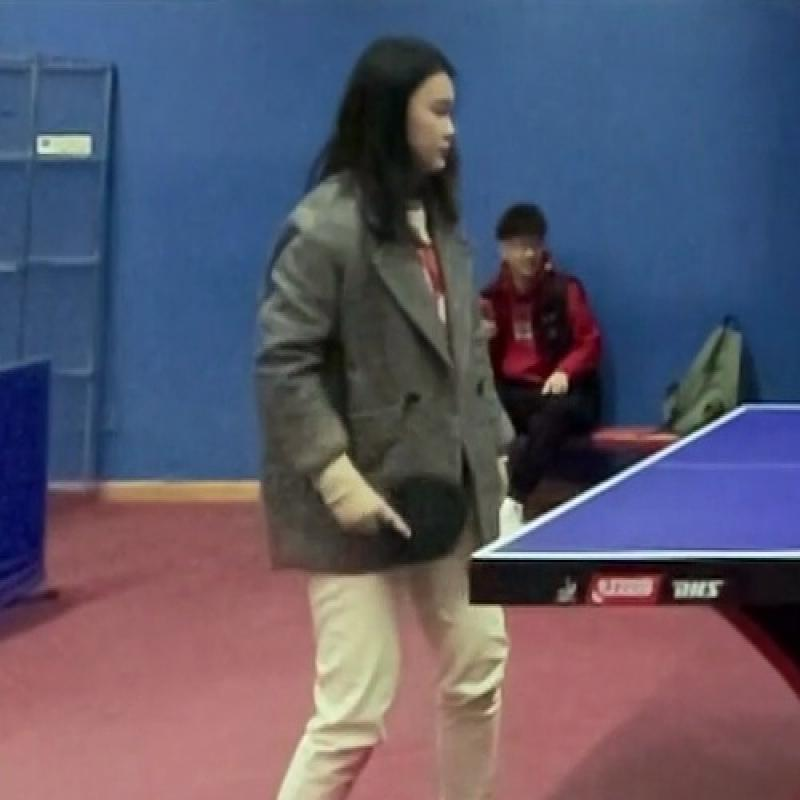bats: (359, 443, 463, 584)
